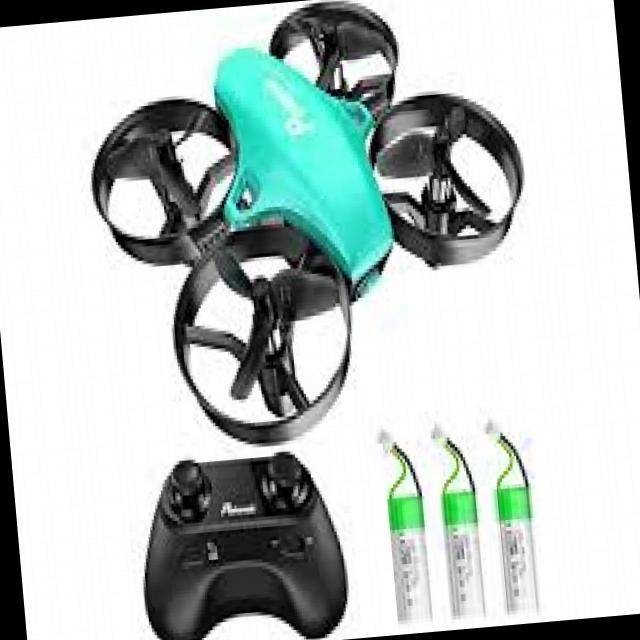drone: (45, 0, 581, 466)
